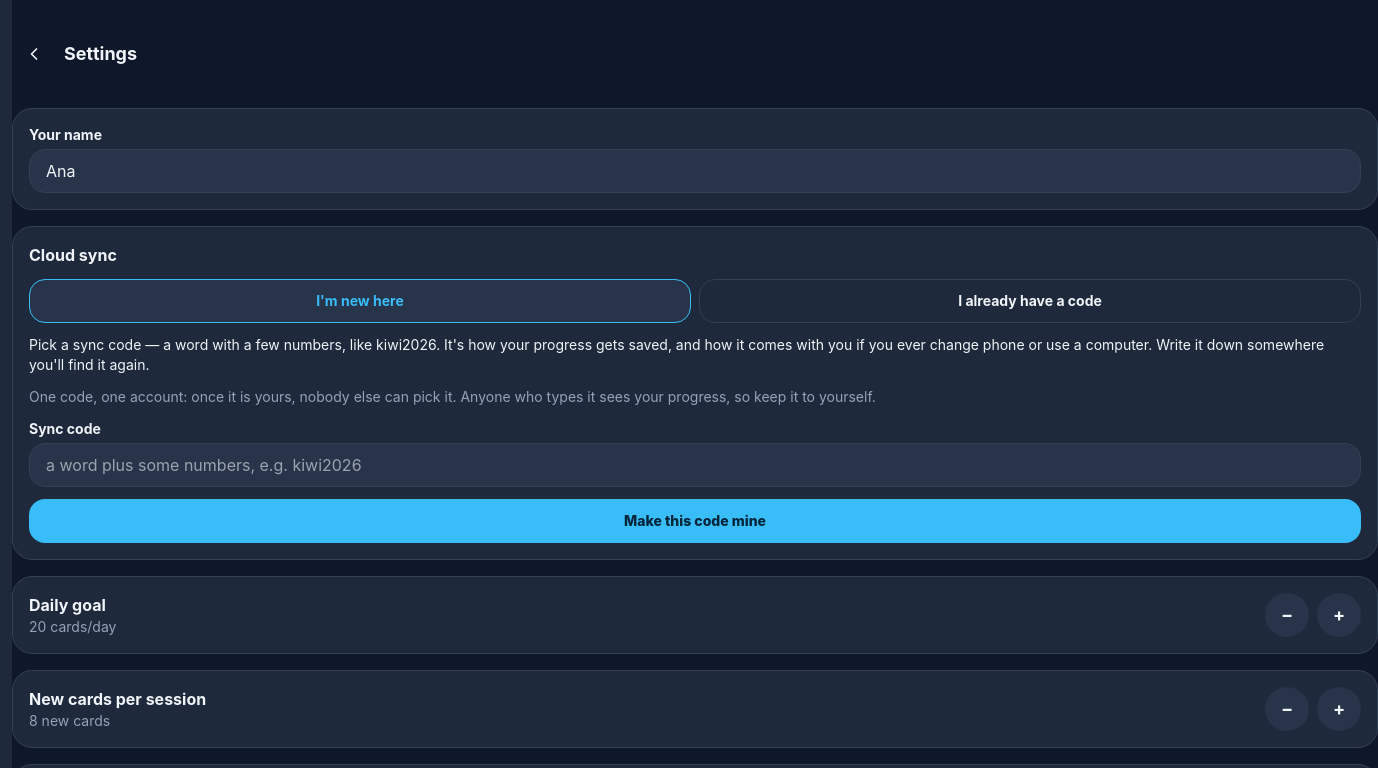
Test: Settings with Supabase configured › refuses a code that belongs to someone else, and writes nothing
Click the radio button labelled "I'm new here". click: (360, 301)
box: [29,279,691,323]
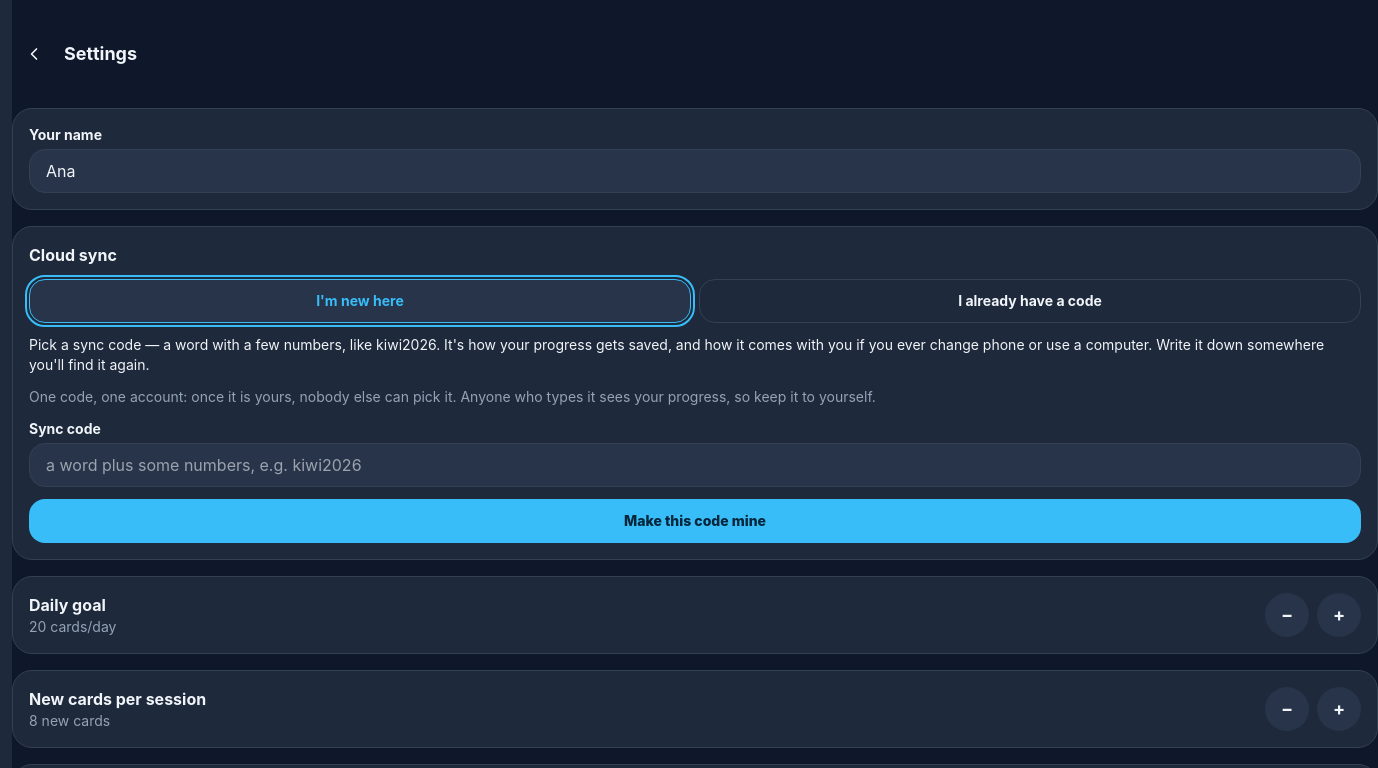
Type "kiwi2026" into the field labelled "Sync code". click: (695, 465)
box: [29,443,1361,487]
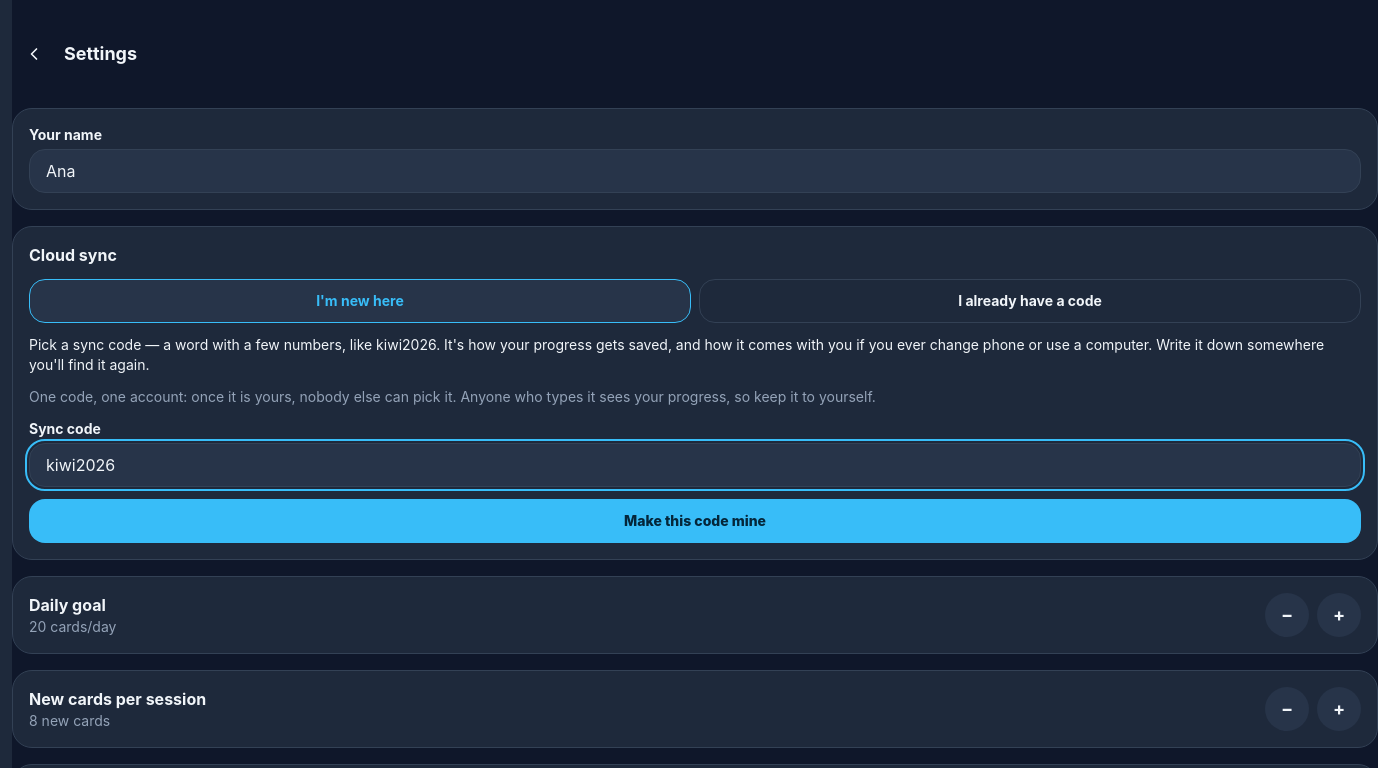
Click the button "Make this code mine". click: (695, 521)
box: [29,499,1361,543]
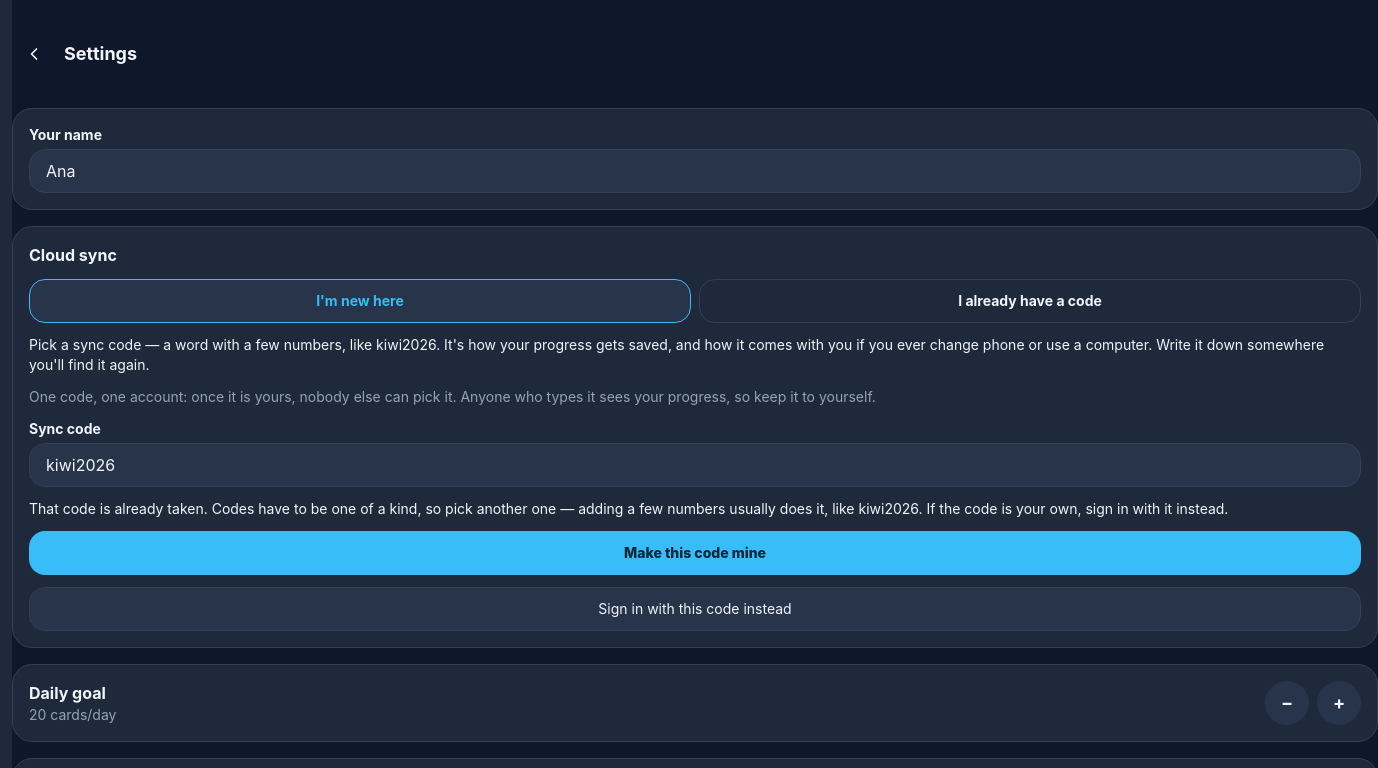
Expected: the text "That code is already taken" is shown, [29,500,1228,517]
